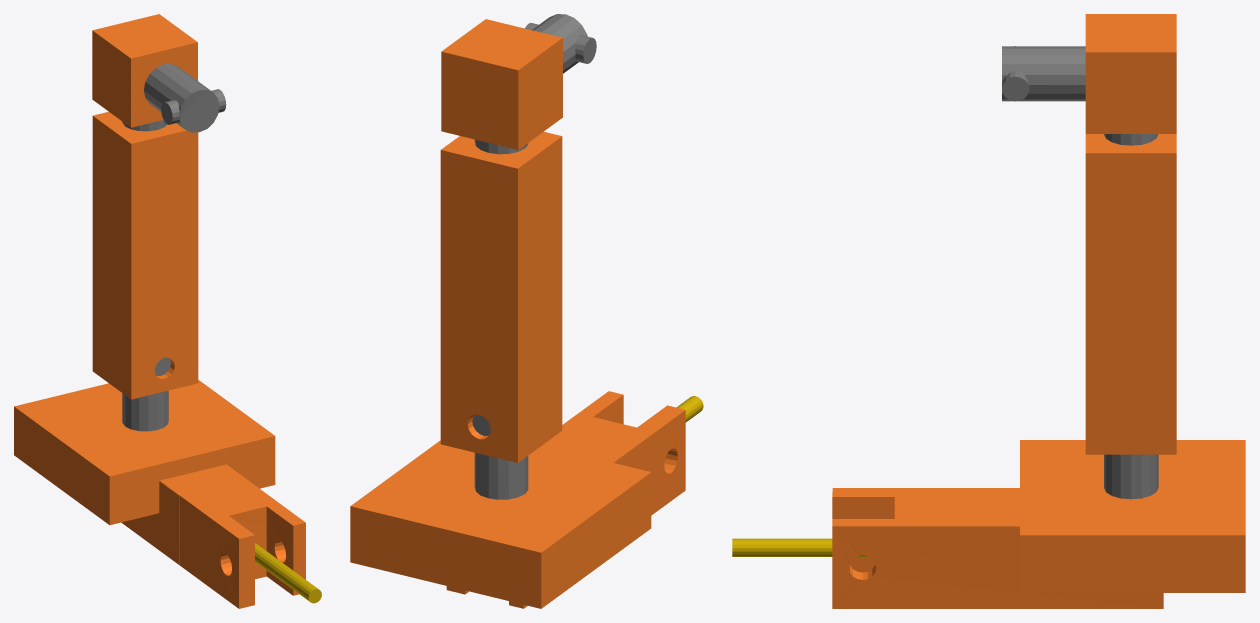
Rendered from factory.obj.
3 renders of one model, left to right at view 1: azimuth 30°, elevation 25°; view 2: azimuth 150°, elevation 25°; view 3: azimuth 270°, elevation 25°, orthographic. The views are drawn at different scales.
Parts seen in each view (by area): view 1: Base, UpperArm, Sholder, Hand; view 2: Base, Sholder, UpperArm; view 3: Base, UpperArm, Sholder, Hand.
Part boxes in pixels (x1,y1,x2,y2): Base: (14, 111, 275, 525); UpperArm: (121, 464, 305, 608); Sholder: (92, 14, 226, 132); Hand: (140, 481, 321, 603); Base: (350, 131, 651, 608); Sholder: (441, 14, 596, 149); UpperArm: (446, 391, 685, 608); Base: (1020, 134, 1245, 592); UpperArm: (832, 488, 1163, 608); Sholder: (1002, 14, 1176, 133); Hand: (732, 538, 868, 556).
Bounding box in the file's own units: 1.05 × 2.85 × 2.38.
